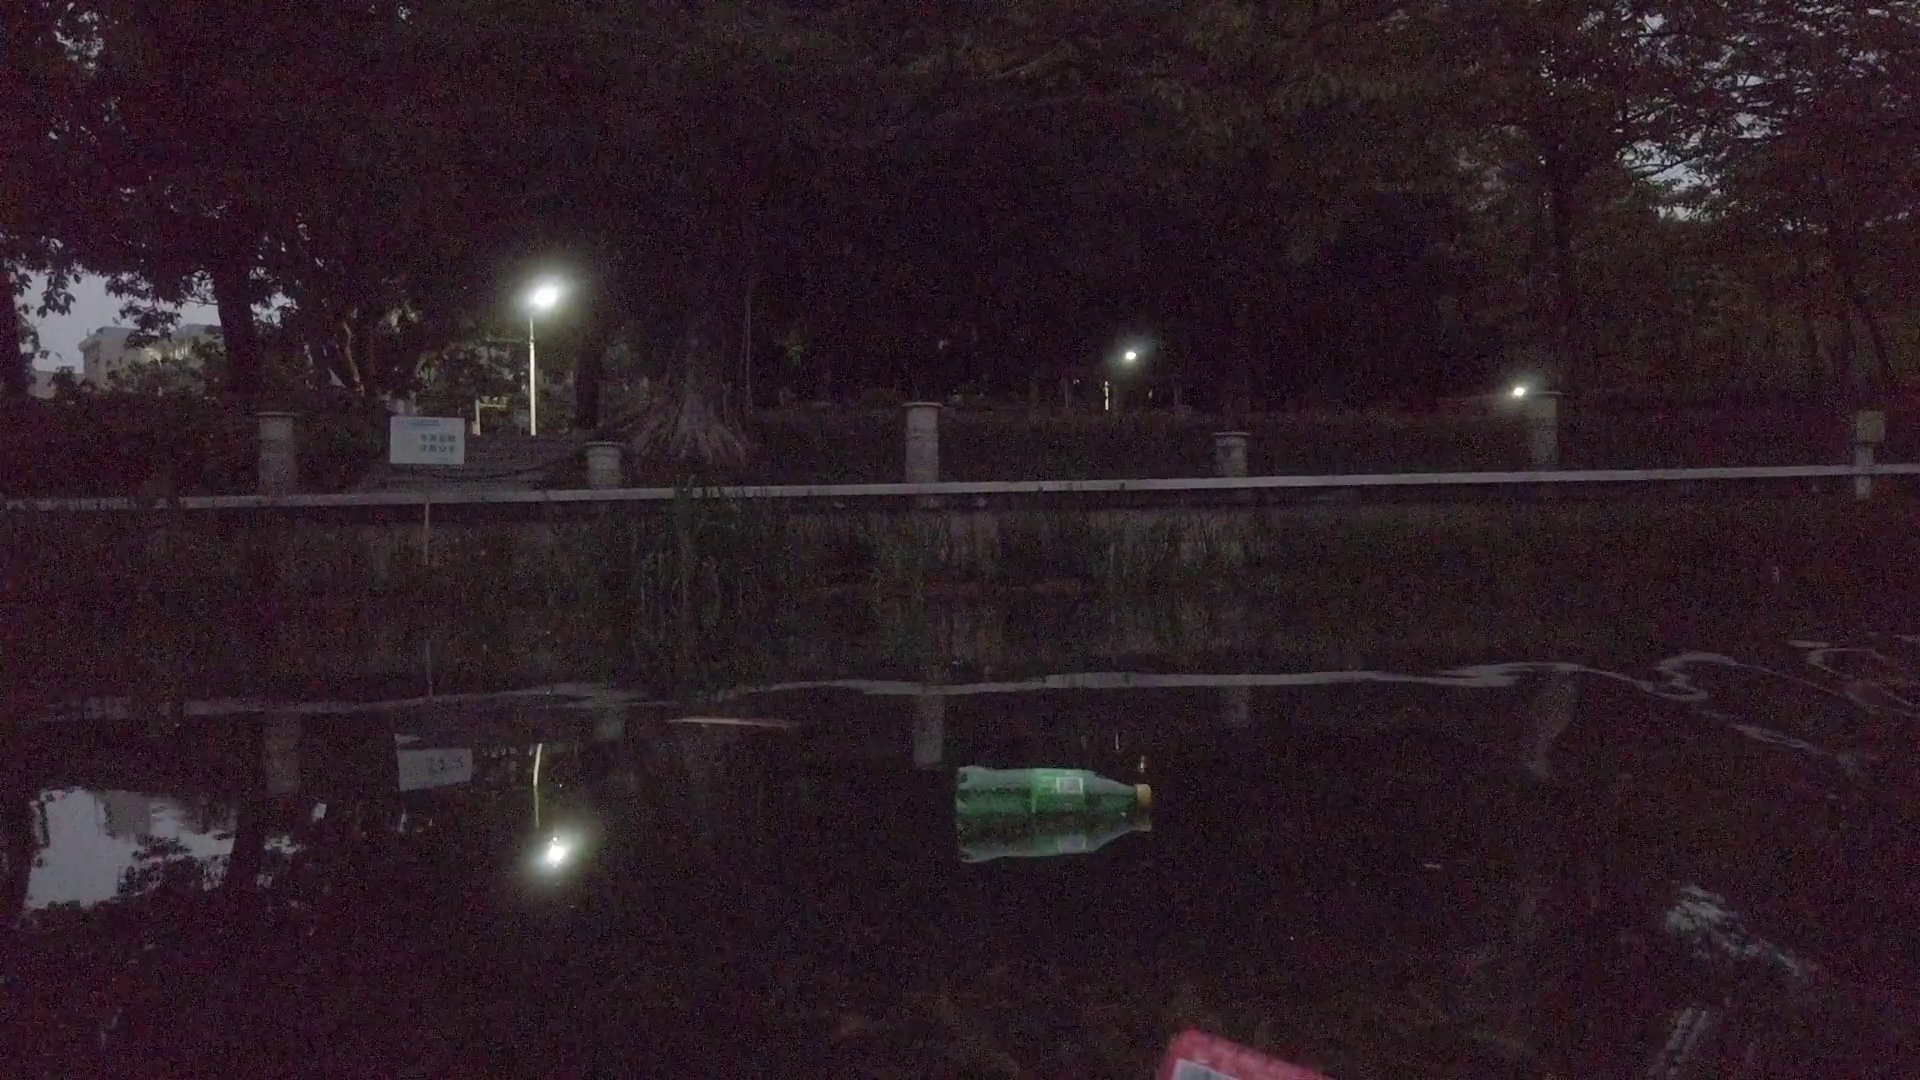bottle: (1145, 1025, 1345, 1080), (953, 770, 1153, 818)
